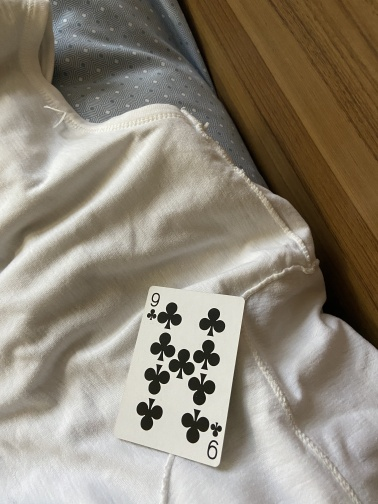nine: (112, 284, 247, 470)
